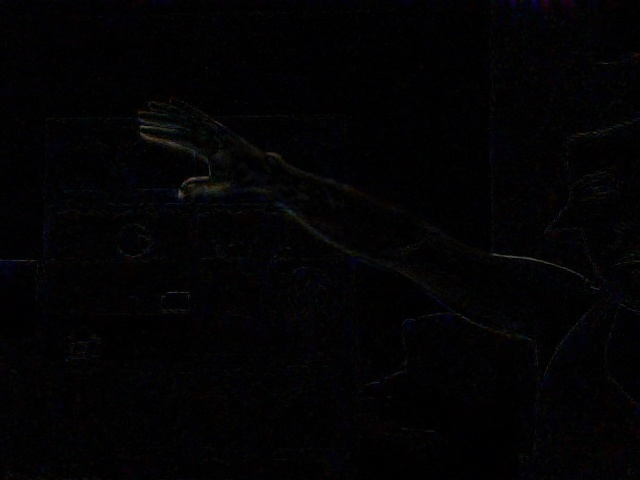hand_pa: (131, 96, 267, 205)
